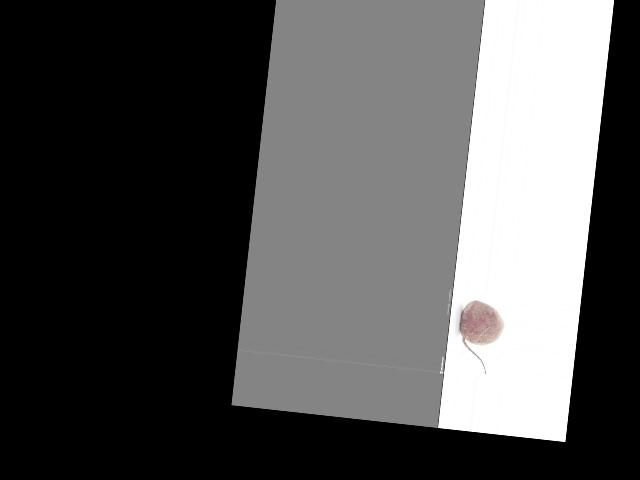beet: (454, 298, 505, 375)
